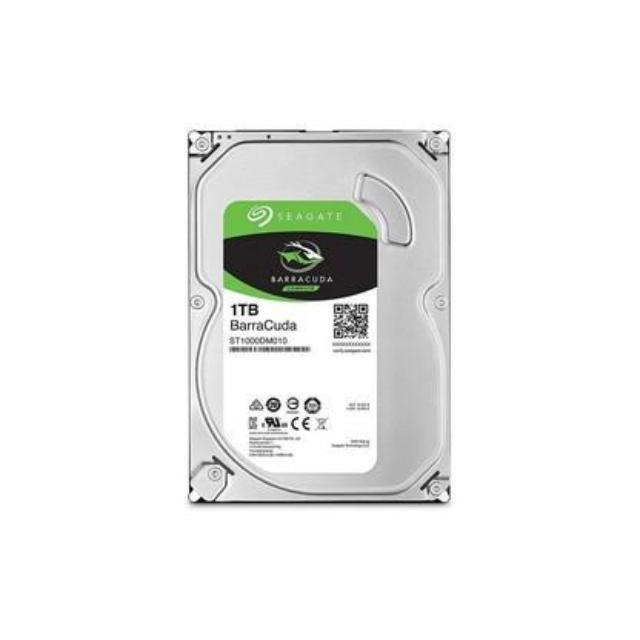DISK: (181, 120, 459, 512)
